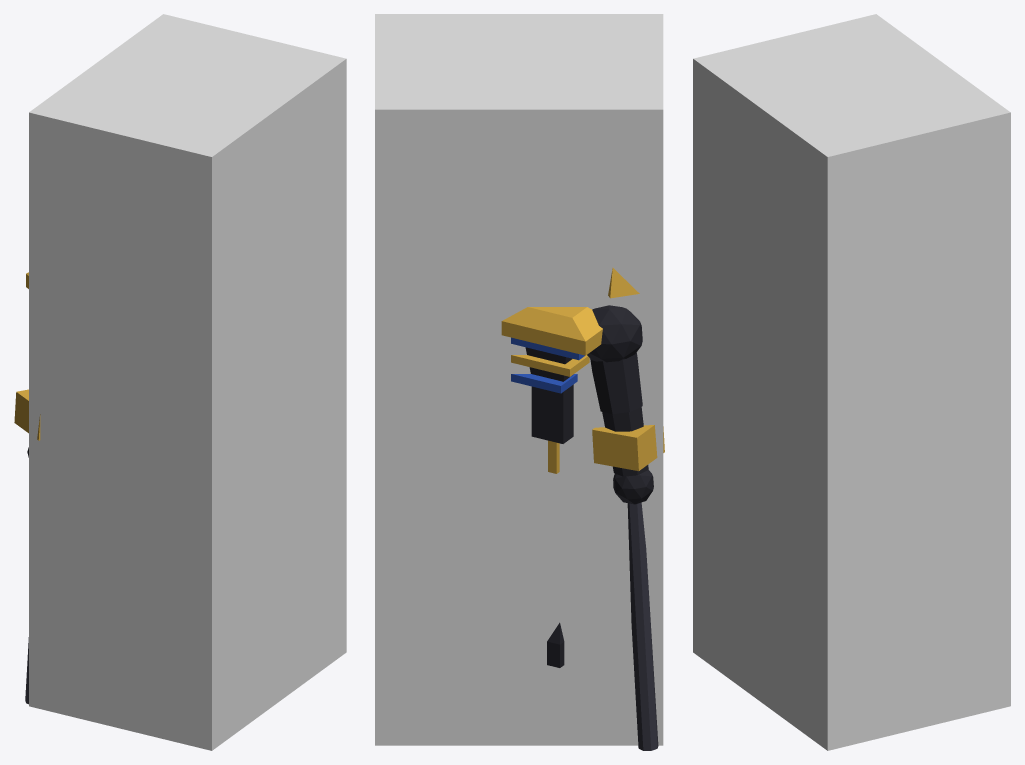
File: desert_anubis_guard.fbx
3 views of the same model, side by side, from view 1: azimuth 30°, elevation 25°; view 2: azimuth 150°, elevation 25°; view 3: azimuth 270°, elevation 25° (orthographic). The views are drawn at different scales.
Parts seen in each view (by area): view 1: Root__0.00_3.70_-0.69__4.11_10.00_3.23, ArmR__Torso__1.51_5.16_0.00; view 2: Root__0.00_3.70_-0.69__4.11_10.00_3.23, ArmR__Torso__1.51_5.16_0.00, Torso__Root__0.00_3.26_0.00, LegR__Torso__0.58_3.11_0.00; view 3: Root__0.00_3.70_-0.69__4.11_10.00_3.23.
Boxes of the visible parts, box(x1,y1,x2,y2) form: Root__0.00_3.70_-0.69__4.11_10.00_3.23: box(29, 14, 346, 750); ArmR__Torso__1.51_5.16_0.00: box(14, 389, 40, 704); Root__0.00_3.70_-0.69__4.11_10.00_3.23: box(375, 14, 663, 745); ArmR__Torso__1.51_5.16_0.00: box(587, 267, 664, 750); Torso__Root__0.00_3.26_0.00: box(501, 307, 602, 473); LegR__Torso__0.58_3.11_0.00: box(547, 622, 564, 667); Root__0.00_3.70_-0.69__4.11_10.00_3.23: box(693, 14, 1010, 750).
Size of the model in its own units: 145 by 281 by 136.
Materials: 2 (1 with a texture image).
